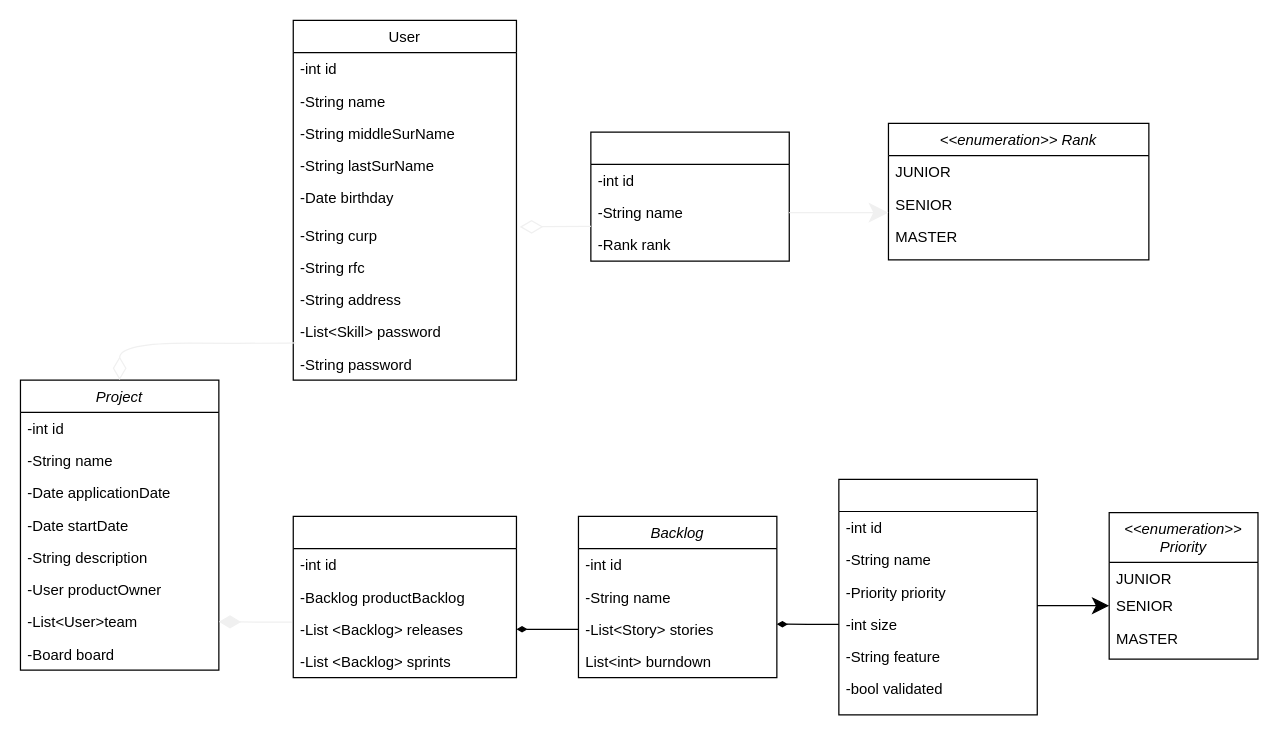
The diagram is 1278 pixels wide and 735 high, and some of its shapes have lost their labels. Here are the shapes that lost their labels. From the top down, the box of each, then its label:
(590, 131, 789, 261): Skill
(292, 515, 516, 678): Board
(838, 478, 1037, 715): Story
